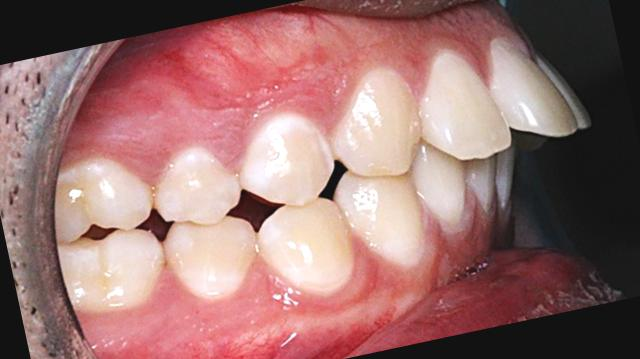canine class II 3/4: (221, 49, 456, 311)
molar class II 1/2: (34, 140, 178, 324)
